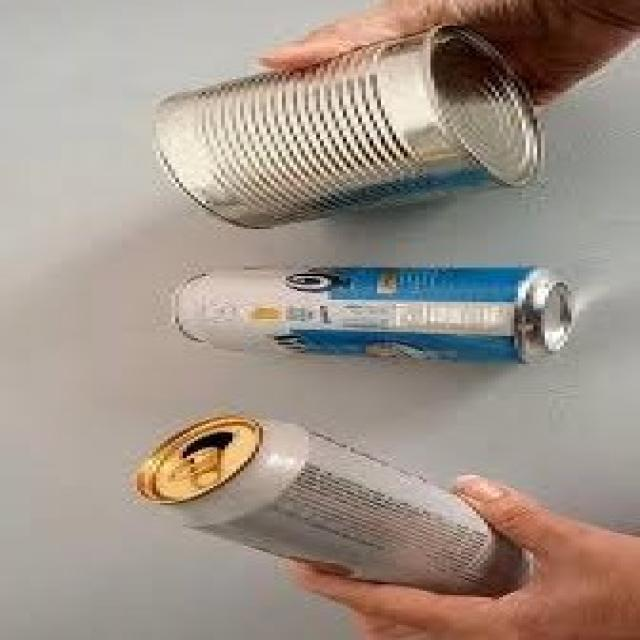Metal: (152, 30, 546, 228), (127, 421, 537, 605), (178, 268, 568, 364)
